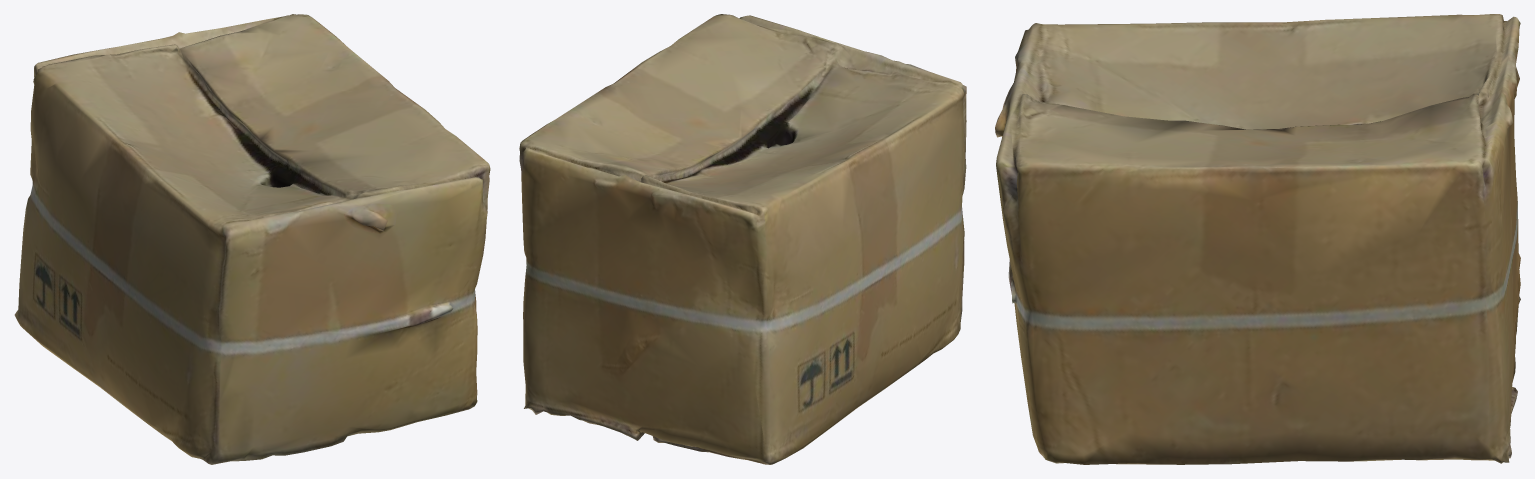
Rendered from cardboard_box_01.glb.
3 renders of one model, left to right at view 1: azimuth 30°, elevation 25°; view 2: azimuth 150°, elevation 25°; view 3: azimuth 270°, elevation 25°, orthographic. The views are drawn at different scales.
Visible parts, largest first — view 1: cardboard_box_01; view 2: cardboard_box_01; view 3: cardboard_box_01.
Part boxes in pixels (x1,y1,x2,y2): cardboard_box_01: (14,14,490,464); cardboard_box_01: (519,14,966,464); cardboard_box_01: (995,14,1520,464).
Bounding box in the file's own units: 0.3869 × 0.3418 × 0.5159.
Materials: 1 (1 with a texture image).
